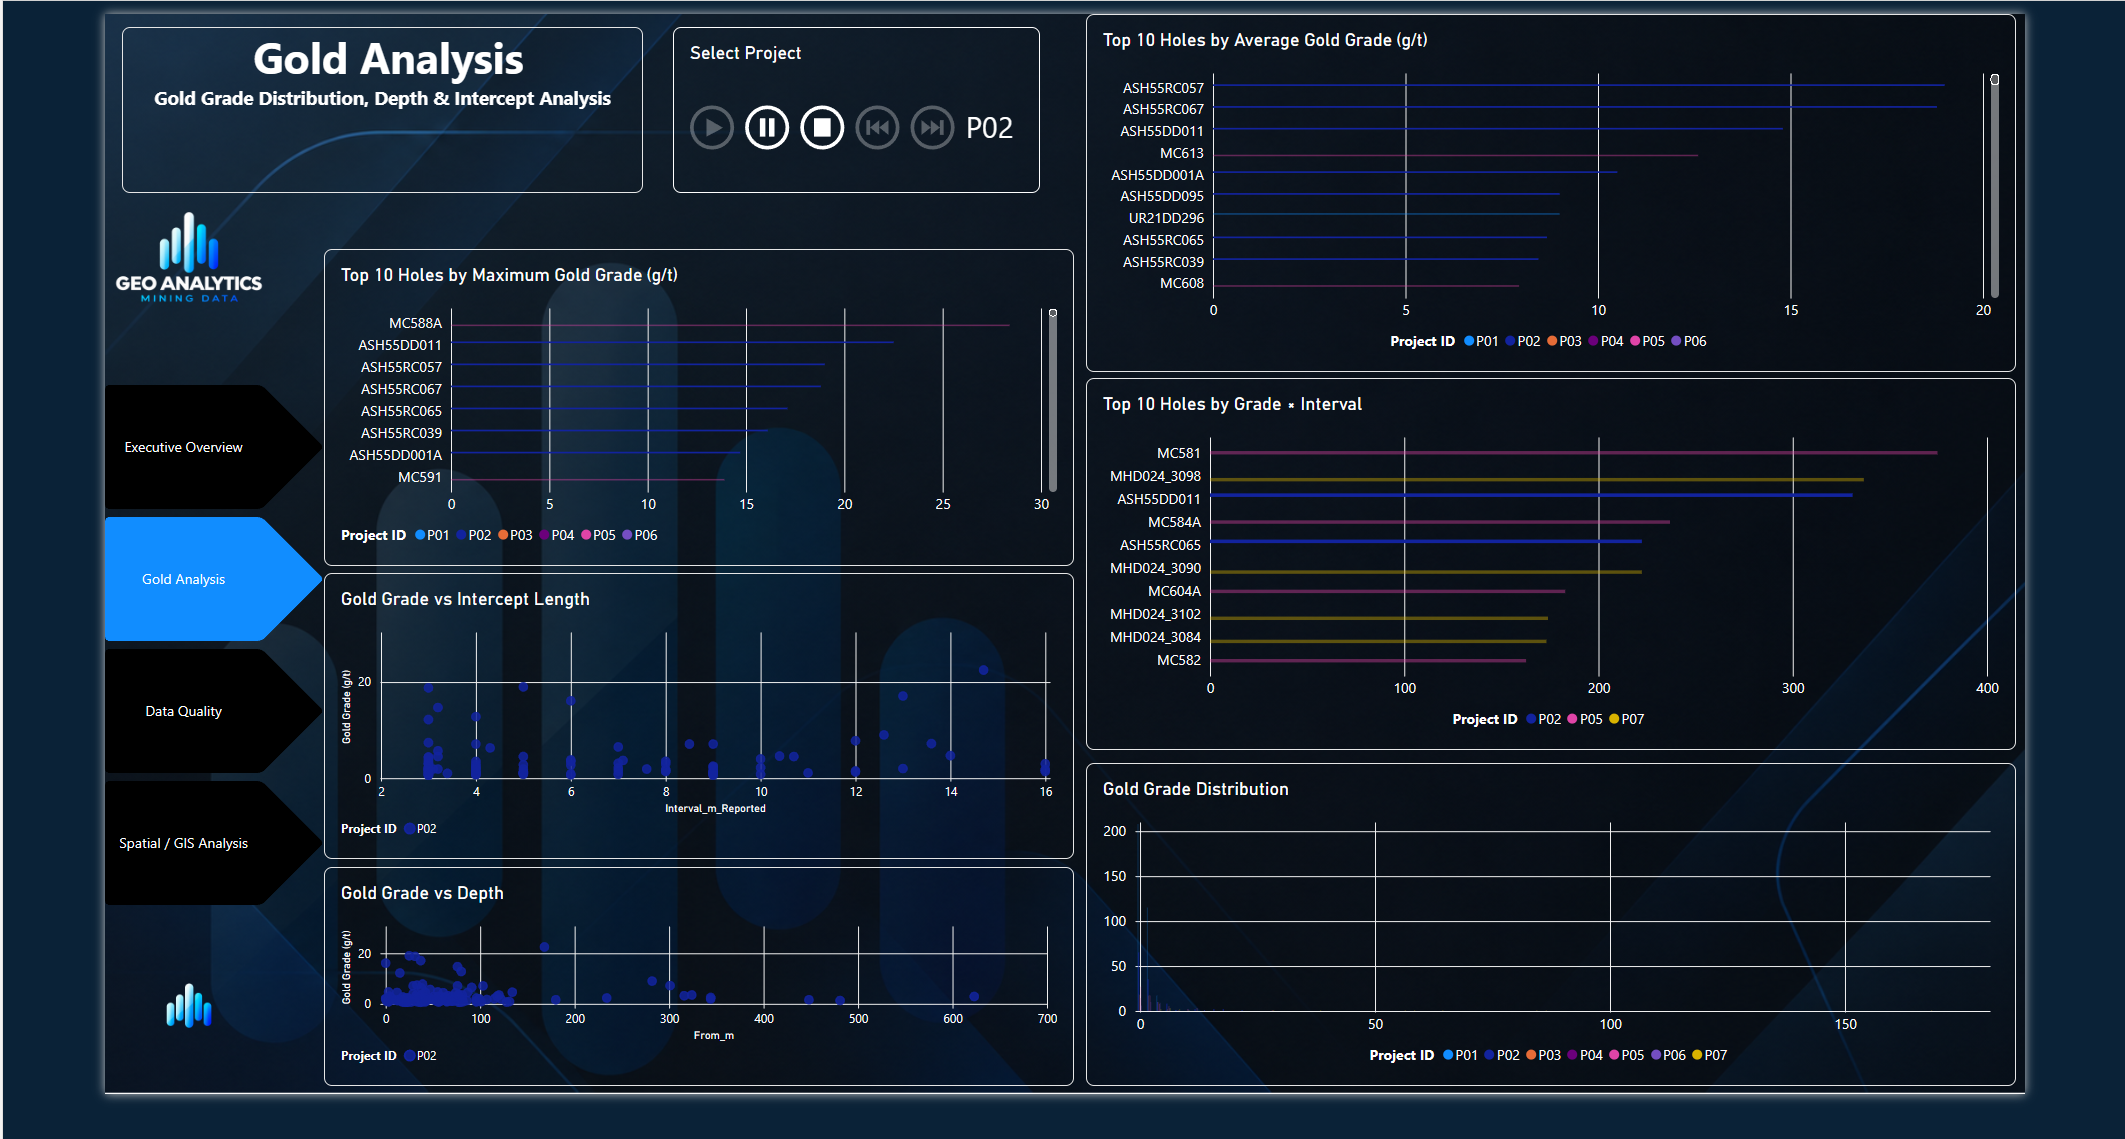

Layout of this report page (visuals, bound fields, positions):
{"tool":"powerbi","page":{"name":"Gold Analysis","canvas":[1920,1080],"ordinal":1},"visuals":[{"type":"clusteredColumnChart","title":"Gold Grade Distribution","fields":{"Category":["mining_geology_project intercepts.Au_g_t (bins)"],"Y":["Count(mining_geology_project intercepts.Intercept_ID)"]},"box":[969.2,722.3,950.8,358.1],"z":0},{"type":"clusteredBarChart","title":"Top 10 Holes by Grade × Interval","fields":{"Category":["mining_geology_project intercepts.Hole_ID"],"Y":["Max(mining_geology_project intercepts.Grade_Interval)"]},"box":[968.8,336.7,951.2,385.8],"z":1000},{"type":"clusteredBarChart","title":"Top 10 Holes by Maximum Gold Grade (g/t)","fields":{"Category":["mining_geology_project drillholes.Hole_ID"],"Y":["Max(mining_geology_project intercepts.Au_g_t)"]},"box":[0,234.6,968.8,337.7],"z":2000},{"type":"clusteredBarChart","title":"Top 10 Holes by Average Gold Grade (g/t)","fields":{"Category":["mining_geology_project drillholes.Hole_ID"],"Y":["Avg(mining_geology_project intercepts.Au_g_t)"]},"box":[968.8,0,951.2,336.7],"z":3000},{"type":"scatterChart","title":"Gold Grade vs Depth","fields":{"Series":["mining_geology_project intercepts.Project_ID"],"X":["mining_geology_project intercepts.From_m"],"Y":["mining_geology_project intercepts.Au_g_t"]},"box":[0,844.7,969.2,235.7],"z":4000},{"type":"scatterChart","title":"Gold Grade vs Intercept Length","fields":{"Series":["mining_geology_project intercepts.Project_ID"],"X":["mining_geology_project intercepts.Interval_m_Reported"],"Y":["mining_geology_project intercepts.Au_g_t"]},"box":[0,572.3,968.8,272.9],"z":5000},{"type":"PBI_CV_16948668_E17D_454B_8664_2F2C470EA8C1","fields":{"category":["mining_geology_project drillholes.Project_ID"]},"box":[304.6,0,664.7,234.6],"z":6000},{"type":"textbox","box":[0,0,305,234.6],"z":7000}]}

Visuals, with their boxes on the page's 1920x1080 design canvas (x1, y1, x2, y2). These are canvas units, not pixel positions in the 2125x1139 screenshot, which may show the page scaled, cropped or inside an application window:
"Gold Grade Distribution" clusteredColumnChart: (left=969, top=722, right=1920, bottom=1080)
"Top 10 Holes by Grade × Interval" clusteredBarChart: (left=969, top=337, right=1920, bottom=722)
"Top 10 Holes by Maximum Gold Grade (g/t)" clusteredBarChart: (left=0, top=235, right=969, bottom=572)
"Top 10 Holes by Average Gold Grade (g/t)" clusteredBarChart: (left=969, top=0, right=1920, bottom=337)
"Gold Grade vs Depth" scatterChart: (left=0, top=845, right=969, bottom=1080)
"Gold Grade vs Intercept Length" scatterChart: (left=0, top=572, right=969, bottom=845)
PBI_CV_16948668_E17D_454B_8664_2F2C470EA8C1 - mining_geology_project drillholes.Project_ID: (left=305, top=0, right=969, bottom=235)
textbox: (left=0, top=0, right=305, bottom=235)
